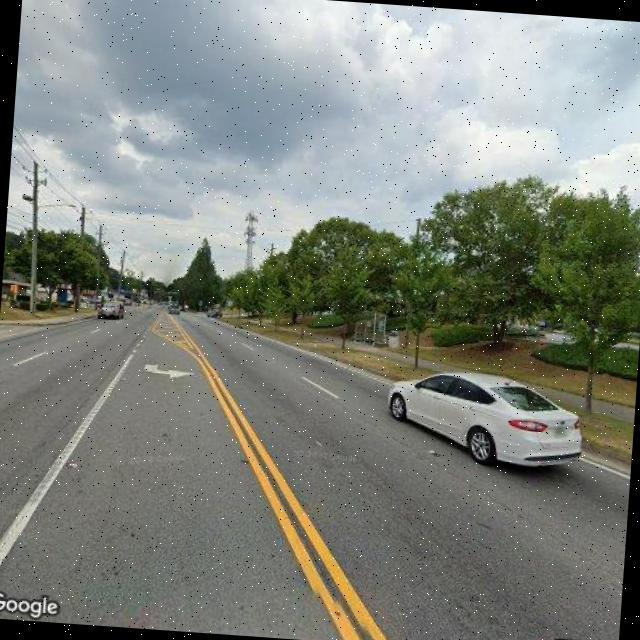shelter: (353, 309, 388, 347)
trash_can: (388, 331, 399, 348)
